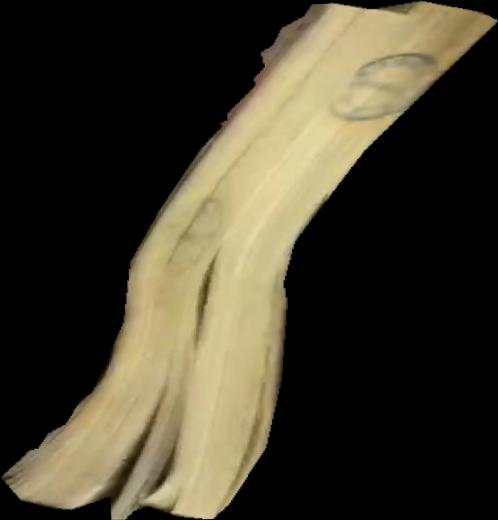backward: (1, 1, 498, 520)
